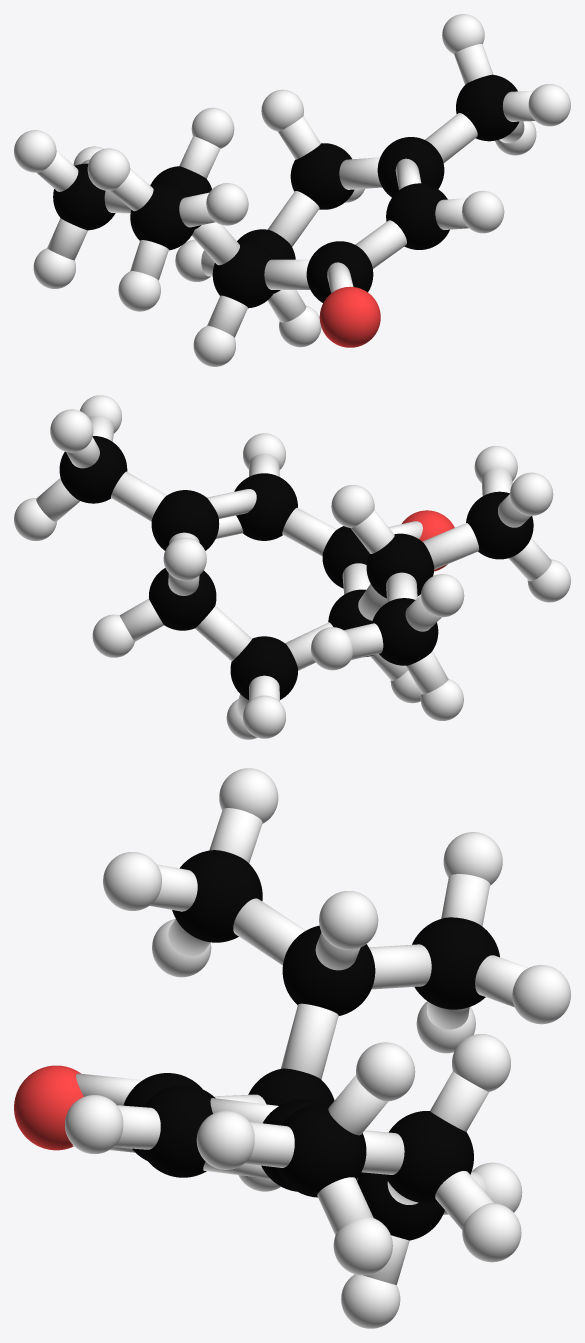
The picture shows the model from 3 angles, top to bottom: view 1: azimuth 30°, elevation 25°; view 2: azimuth 150°, elevation 25°; view 3: azimuth 270°, elevation 25°; orthographic projection. The views are drawn at different scales.
Parts seen in each view (by area): view 1: molecule; view 2: molecule; view 3: molecule.
Part boxes in pixels (left/top/right/bottom): molecule: left=14, top=14, right=570, bottom=366; molecule: left=14, top=395, right=570, bottom=739; molecule: left=14, top=768, right=570, bottom=1328.
Bounding box in the file's own units: 7.88 × 4.42 × 5.65.
